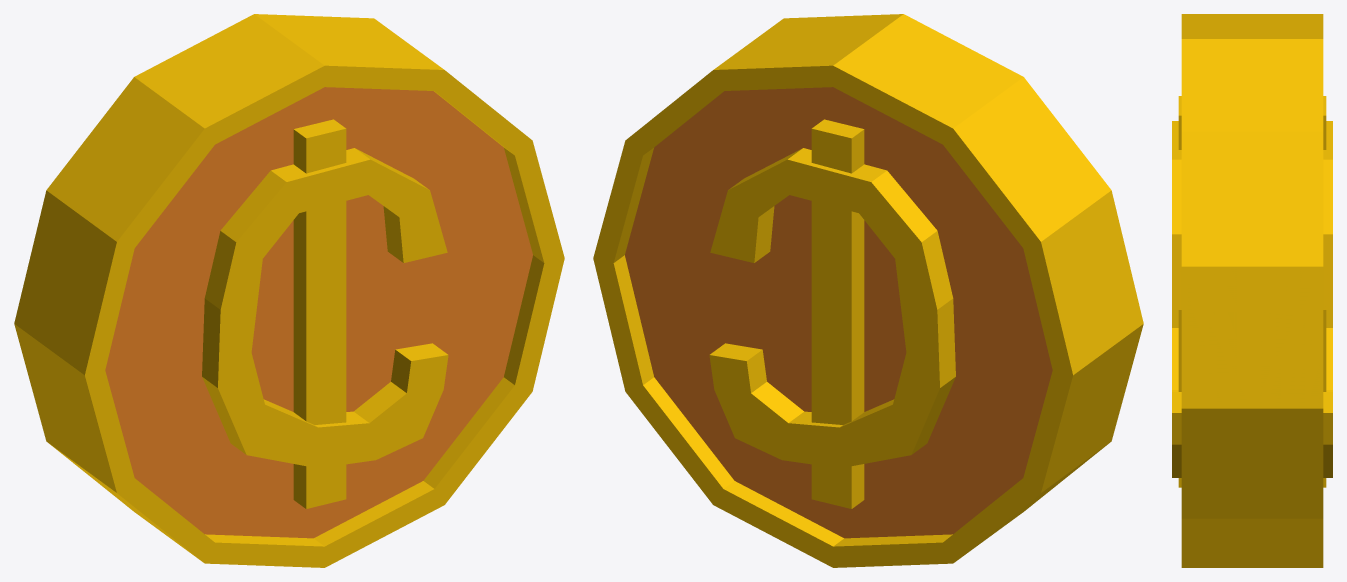
The model's file is coin.fbx.
3 renders of one model, left to right at view 1: azimuth 30°, elevation 25°; view 2: azimuth 150°, elevation 25°; view 3: azimuth 270°, elevation 25°, orthographic.
Parts seen in each view (by area): view 1: Circle; view 2: Circle; view 3: Circle.
Boxes of the visible parts, bbox=[...] form: Circle: bbox=[14, 14, 564, 567]; Circle: bbox=[593, 14, 1143, 567]; Circle: bbox=[1172, 14, 1332, 567].
Size of the model in its own units: 69.48 by 69.48 by 20.09.
1 material, 1 textured.
